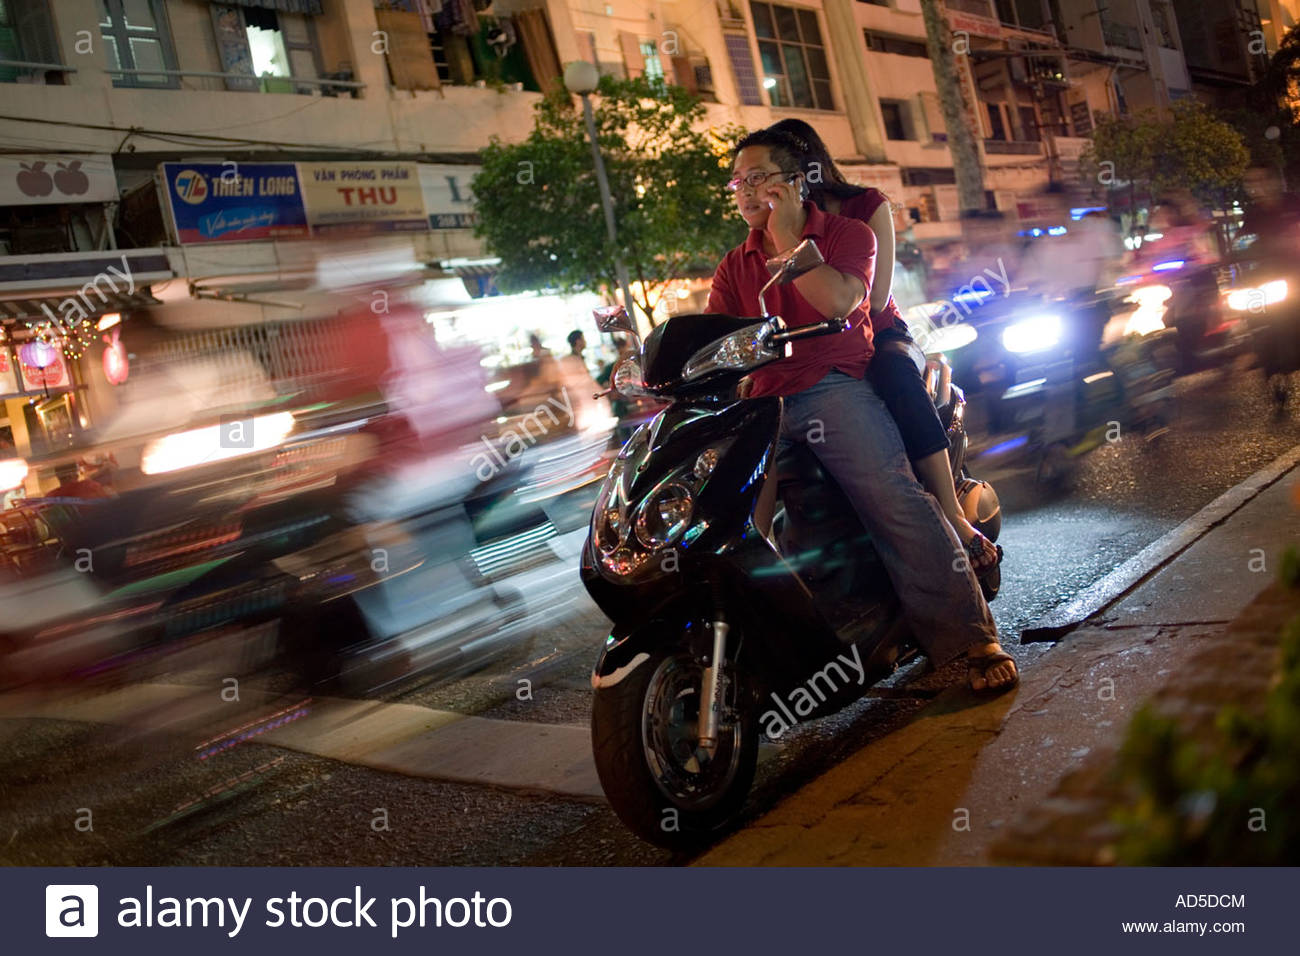dieu khien xe may: (581, 116, 876, 636)
su dung dien thoai: (727, 122, 811, 269)
